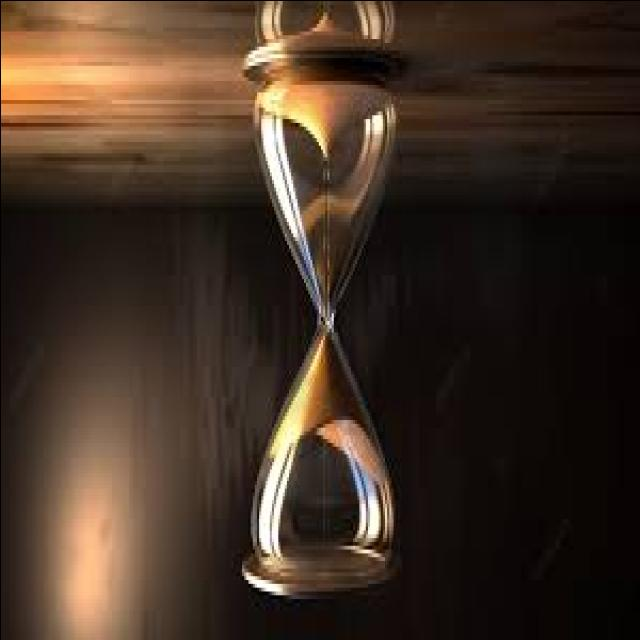clock: (226, 26, 407, 604)
